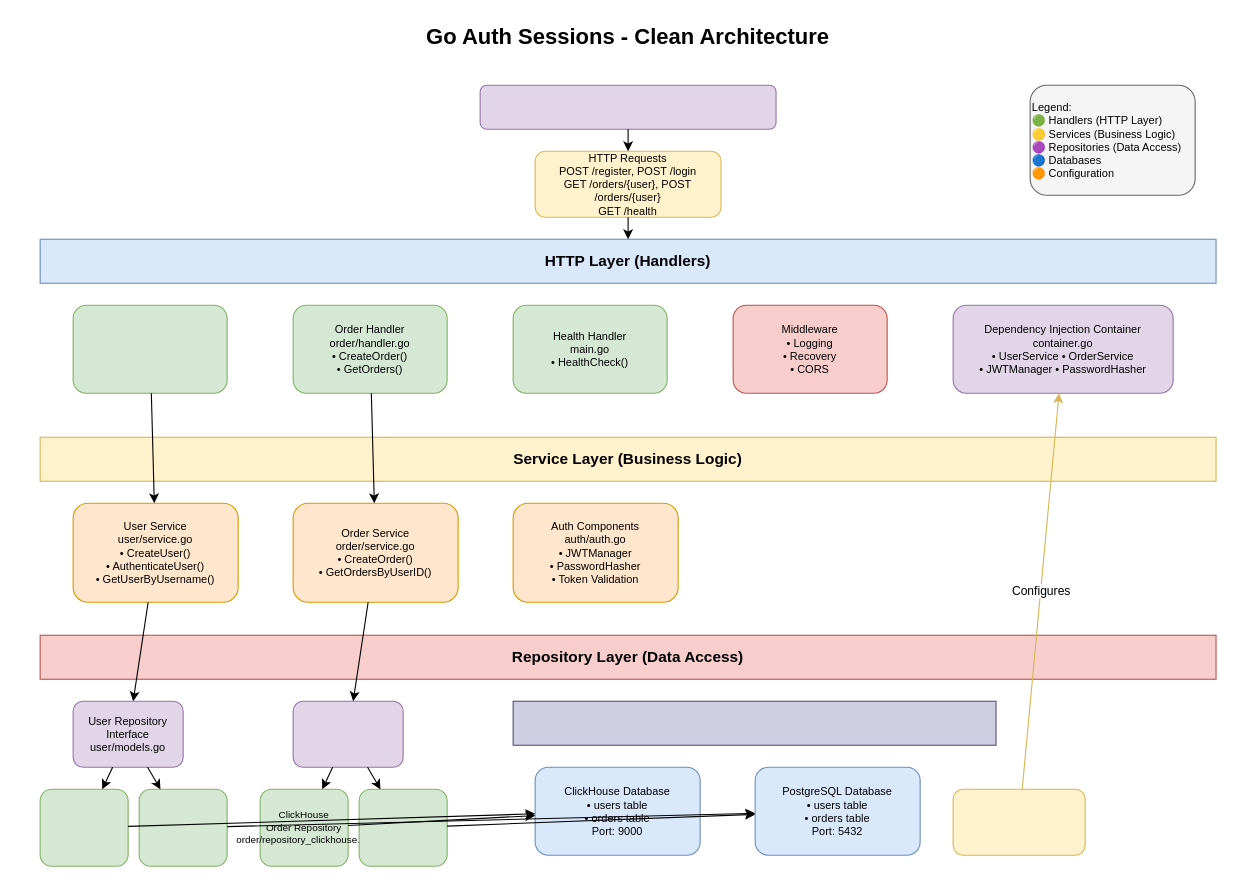
The diagram is 1235 pixels wide and 886 high, and some of its shapes have lost their labels. The centre of each missing label's shape, as x and y in pixels:
ClickHouse User Repository user/repository_clickhouse.go: (x=83, y=827)
Client Applications: (x=627, y=106)
Database Layer: (x=754, y=722)
Environment Config DB_DRIVER (postgres/clickhouse): (x=1018, y=821)
Order Repository Interface order/models.go: (x=347, y=733)
PostgreSQL Order Repository order/repository_postgres.go: (x=402, y=827)
PostgreSQL User Repository user/repository_postgres.go: (x=182, y=827)
User Handler user/handler.go • Register() • Login(): (x=149, y=348)
